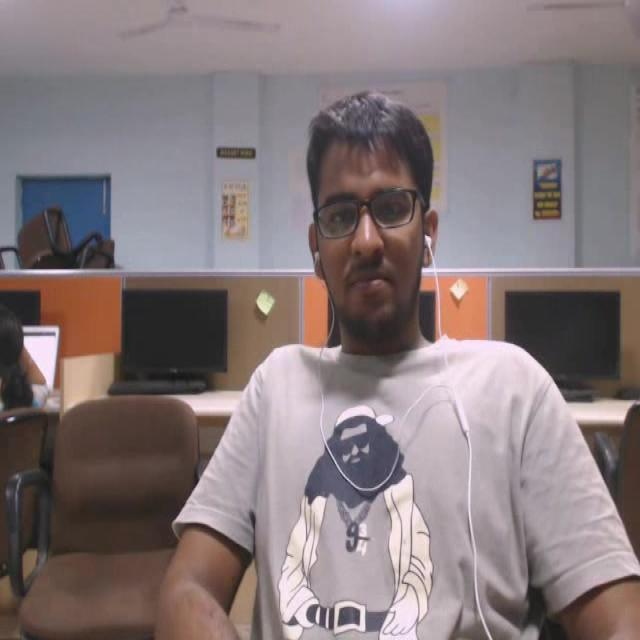Engaged: (268, 71, 474, 384)
